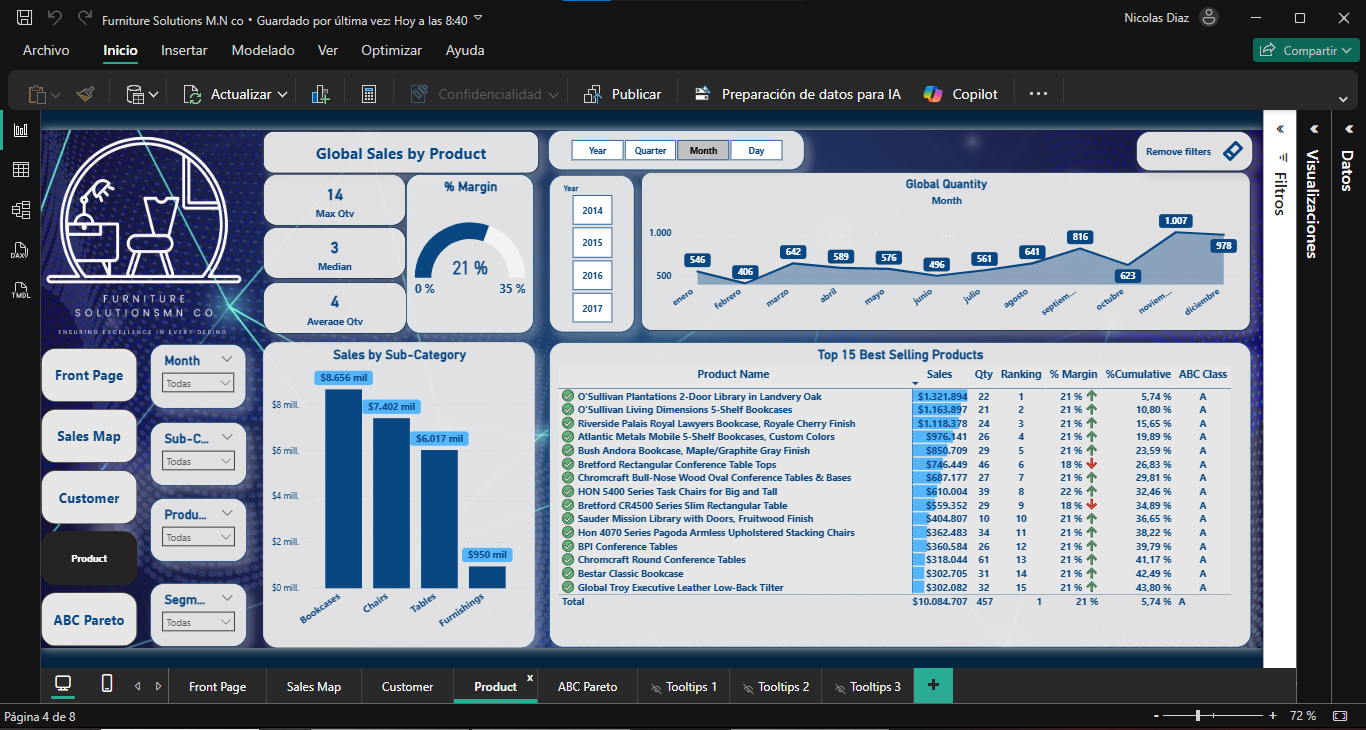

This screenshot's page, from the dashboard's own definition file:
{"tool":"powerbi","page":{"name":"Product","canvas":[1700,720],"ordinal":3},"visuals":[{"type":"tableEx","title":" Top 15 Best Selling Products","fields":{"Values":["Product_Table.Product Name","Measures_Table.Global_Sales","Measures Table.Global_Quantity","Measures_Table.Rank","Measures_Table.% Margin","Measures Table.%Cumulative","Measures_Table.ABC Classification"]},"box":[707.1,295.4,976.6,424.6],"z":0},{"type":"clusteredColumnChart","title":"Sales by Sub-Category","fields":{"Category":["Product_Table.Sub-Category"],"Y":["Measures Table.Global_Sales"]},"box":[308.3,295.4,378.5,424.6],"z":1000},{"type":"pageNavigator","box":[0,302.8,134.8,417.2],"z":2000},{"type":"image","box":[0,0,286.2,297.2],"z":3000},{"type":"card","fields":{"Values":["Measures Table.Max Qty"]},"box":[308.3,60.9,199.4,72],"z":4000},{"type":"card","fields":{"Values":["Measures Table.Median"]},"box":[308.3,134.8,199.4,72],"z":5000},{"type":"textbox","box":[308.3,1.8,384,59.1],"z":6000},{"type":"card","fields":{"Values":["Measures Table.Average Qty"]},"box":[308.3,211.7,200,71.7],"z":7000},{"type":"gauge","title":"% Margin","fields":{"Y":["Measures_Table.% Margin"],"MaxValue":["Measures_Table.limite % Margen"]},"box":[508.3,61.7,178.3,221.7],"z":8000},{"type":"areaChart","title":"Global Quantity","fields":{"Category":["Calendar.Date.Variación.Jerarquía de fechas.Mes"],"Y":["Measures Table.Global_Quantity"]},"box":[835.3,58.7,848.2,220.7],"z":9000},{"type":"actionButton","box":[1524,2,163,56],"z":10000},{"type":"slicer","fields":{"Values":["Calendario.Date.Variación.Jerarquía de fechas.Año"]},"box":[706.4,63,118.9,219.2],"z":11000},{"type":"slicer","fields":{"Values":["date parameter.date parameter"]},"box":[705.6,0,356.8,56],"z":12000},{"type":"slicer","fields":{"Values":["Calendar.Date.Variación.Jerarquía de fechas.Mes"]},"box":[152,297.6,134.4,89.6],"z":13000},{"type":"slicer","fields":{"Values":["Product Table.Sub-Category"]},"box":[151.7,406.3,135,89],"z":14000},{"type":"slicer","fields":{"Values":["Product Table.Product Name"]},"box":[151.7,512,135,89],"z":15000},{"type":"slicer","fields":{"Values":["Customer Table.Segment"]},"box":[151.7,630.3,135,89],"z":16000}]}

Visuals, with their boxes on the page's 1700x720 design canvas (x1, y1, x2, y2). These are canvas units, not pixel positions in the 1366x730 screenshot, which may show the page scaled, cropped or inside an application window:
" Top 15 Best Selling Products" tableEx: {"x1": 707, "y1": 295, "x2": 1684, "y2": 720}
"Sales by Sub-Category" clusteredColumnChart: {"x1": 308, "y1": 295, "x2": 687, "y2": 720}
pageNavigator: {"x1": 0, "y1": 303, "x2": 135, "y2": 720}
image: {"x1": 0, "y1": 0, "x2": 286, "y2": 297}
card - Measures Table.Max Qty: {"x1": 308, "y1": 61, "x2": 508, "y2": 133}
card - Measures Table.Median: {"x1": 308, "y1": 135, "x2": 508, "y2": 207}
textbox: {"x1": 308, "y1": 2, "x2": 692, "y2": 61}
card - Measures Table.Average Qty: {"x1": 308, "y1": 212, "x2": 508, "y2": 283}
"% Margin" gauge: {"x1": 508, "y1": 62, "x2": 687, "y2": 283}
"Global Quantity" areaChart: {"x1": 835, "y1": 59, "x2": 1684, "y2": 279}
actionButton: {"x1": 1524, "y1": 2, "x2": 1687, "y2": 58}
slicer - Calendario.Date.Variación.Jerarquía de fechas.Año: {"x1": 706, "y1": 63, "x2": 825, "y2": 282}
slicer - date parameter.date parameter: {"x1": 706, "y1": 0, "x2": 1062, "y2": 56}
slicer - Calendar.Date.Variación.Jerarquía de fechas.Mes: {"x1": 152, "y1": 298, "x2": 286, "y2": 387}
slicer - Product Table.Sub-Category: {"x1": 152, "y1": 406, "x2": 287, "y2": 495}
slicer - Product Table.Product Name: {"x1": 152, "y1": 512, "x2": 287, "y2": 601}
slicer - Customer Table.Segment: {"x1": 152, "y1": 630, "x2": 287, "y2": 719}
